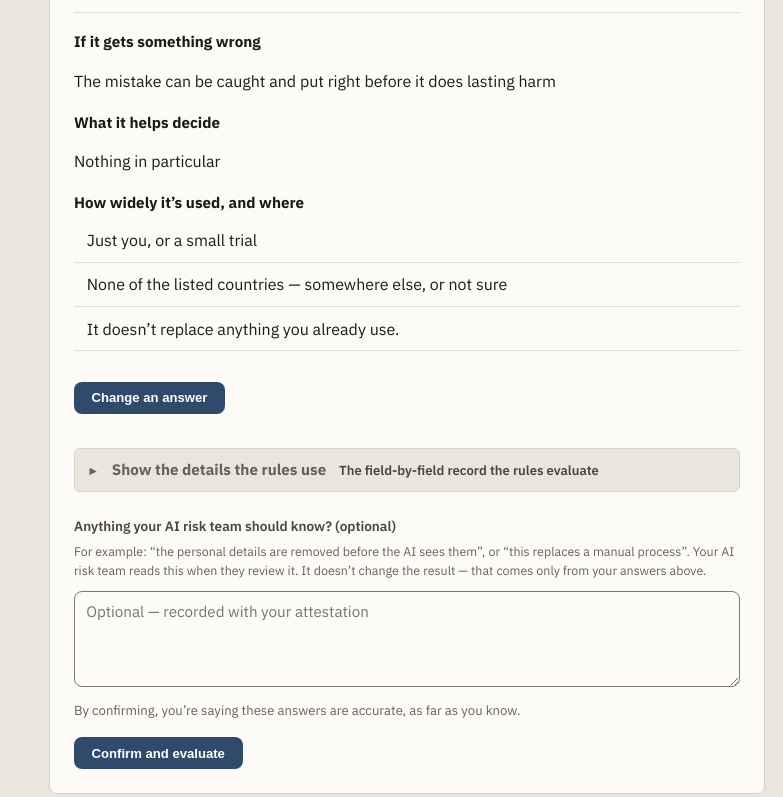
it: R16-W W-4 (D-70): changing an answer / stepping back reopens the form filled in › TC-R16-W-60: "Change an answer" from confirmation reopens the form with its answers intact
The width and height of the screenshot is (783, 797).
(page scrolled)
Click the button "Change an answer" at [150, 398], box [74,382,225,414]
(page scrolled)
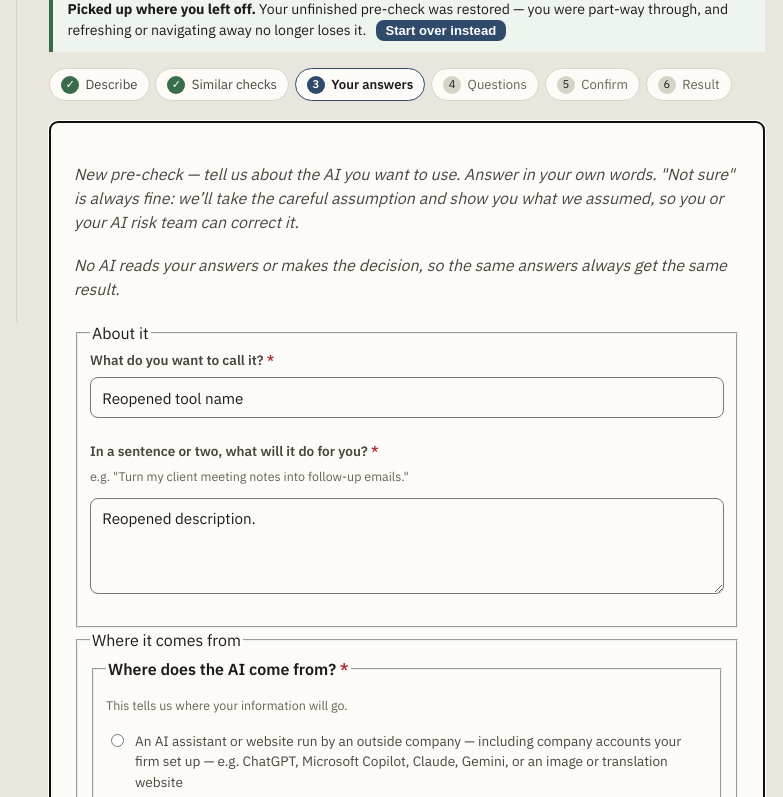
Now the field labelled "What do you want to call it? *" holds "Reopened tool name", box [90,377,724,418]
